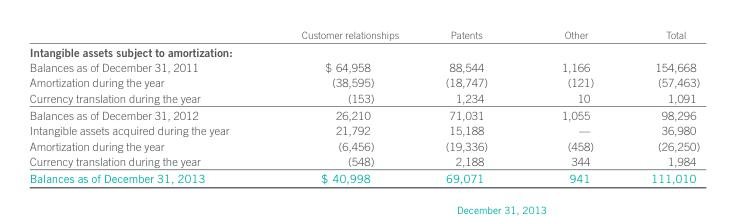table: (28, 28, 699, 184)
table column: (28, 28, 264, 184), (264, 28, 421, 184), (421, 28, 524, 184), (524, 28, 621, 184), (621, 28, 699, 184)
table column header: (28, 28, 699, 42)
table projected row header: (28, 42, 699, 59)
table row: (28, 42, 699, 59), (28, 89, 699, 106), (28, 152, 699, 169), (28, 106, 699, 122), (28, 59, 699, 74), (28, 74, 699, 89), (28, 122, 699, 137), (28, 137, 699, 152), (28, 169, 699, 184), (28, 28, 699, 42)
